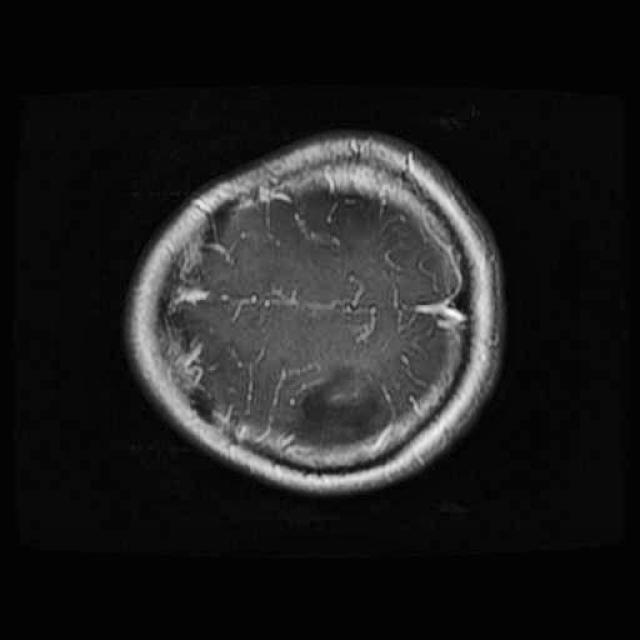Non-Tumor: (271, 354, 396, 475)
